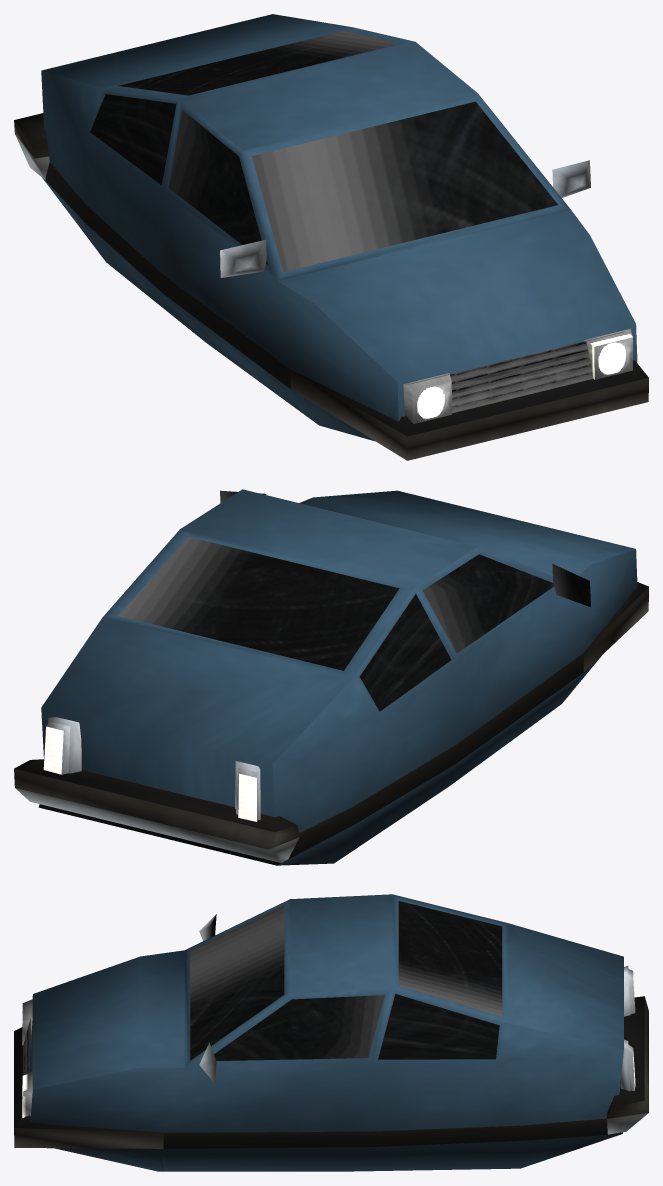
Rendered from EnemyCar_5_v2.fbx.
3 renders of one model, top to bottom at view 1: azimuth 30°, elevation 25°; view 2: azimuth 150°, elevation 25°; view 3: azimuth 270°, elevation 25°, orthographic. The views are drawn at different scales.
Visible parts, largest first — view 1: LilCar3; view 2: LilCar3; view 3: LilCar3.
Boxes of the visible parts, <box> form: LilCar3: <box>14,14,648,460</box>; LilCar3: <box>14,489,648,865</box>; LilCar3: <box>14,894,648,1171</box>.
Size of the model in its own units: 75.86 by 43.24 by 137.
